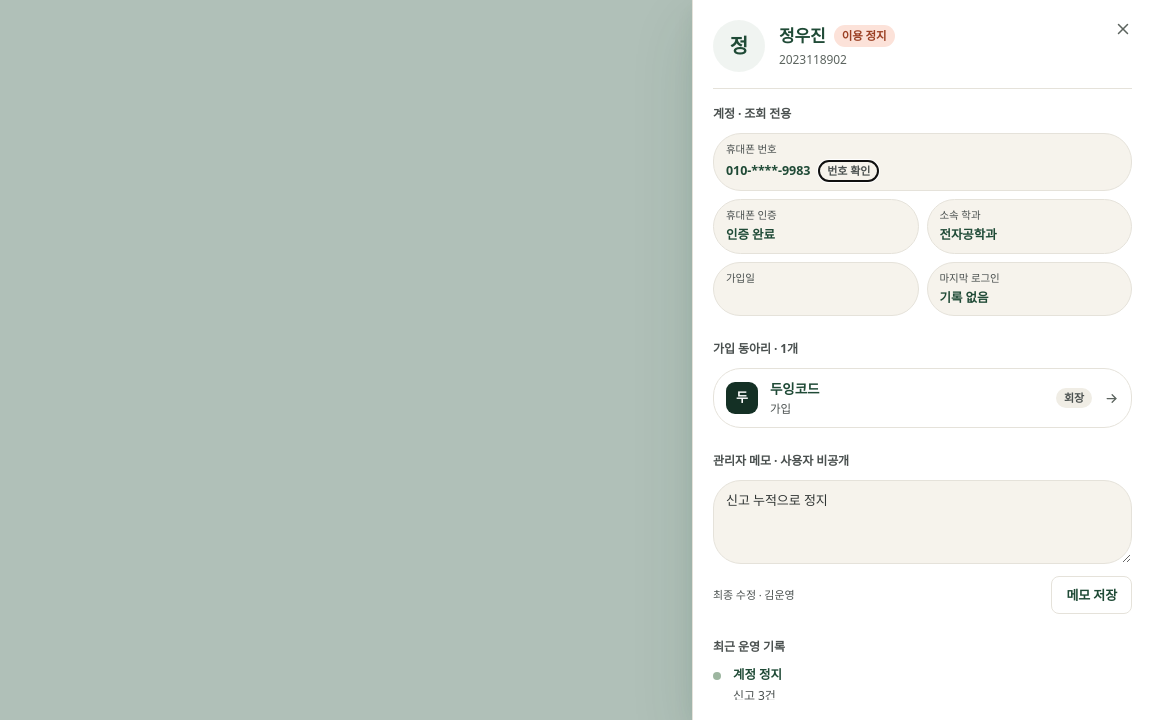
Test: 회원 상세 Sheet 컨테이너 › 다른 회원으로 바뀌면 조회한 원본 번호를 화면과 뮤테이션 양쪽에서 지운다
The width and height of the screenshot is (1152, 720).
Click the button "번호 확인" at (849, 171), box [818,160,879,182]
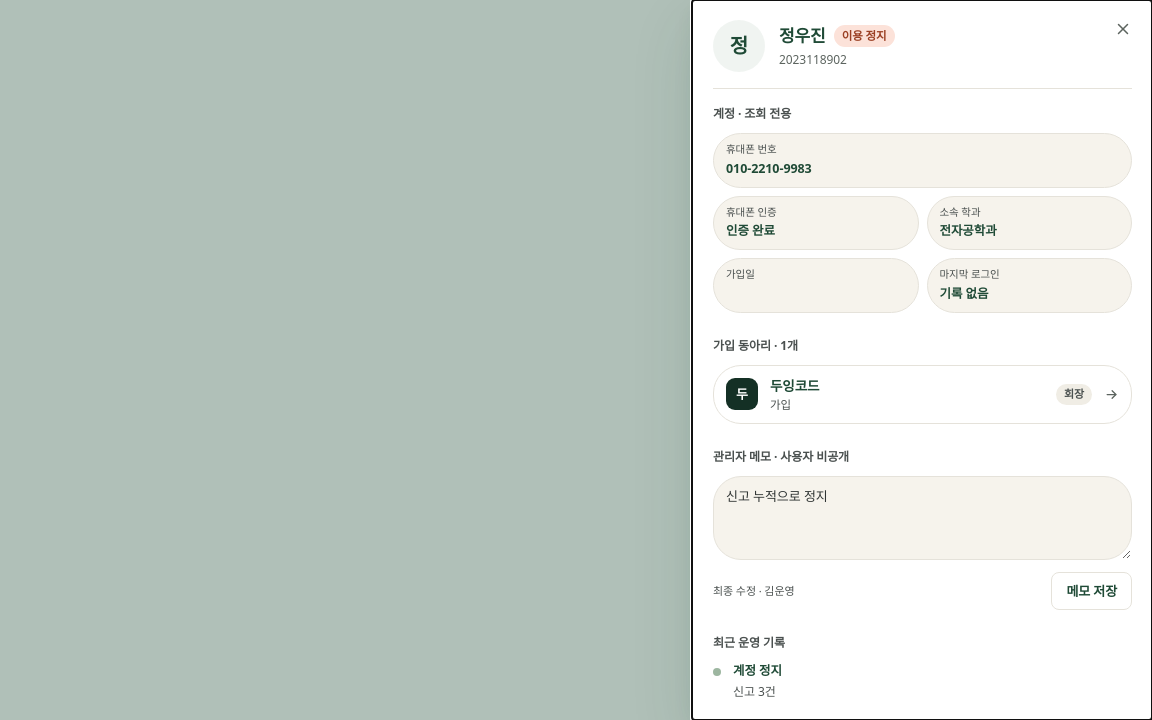
Expected: the text "010-2210-9983" is shown, [726,160,812,179]
